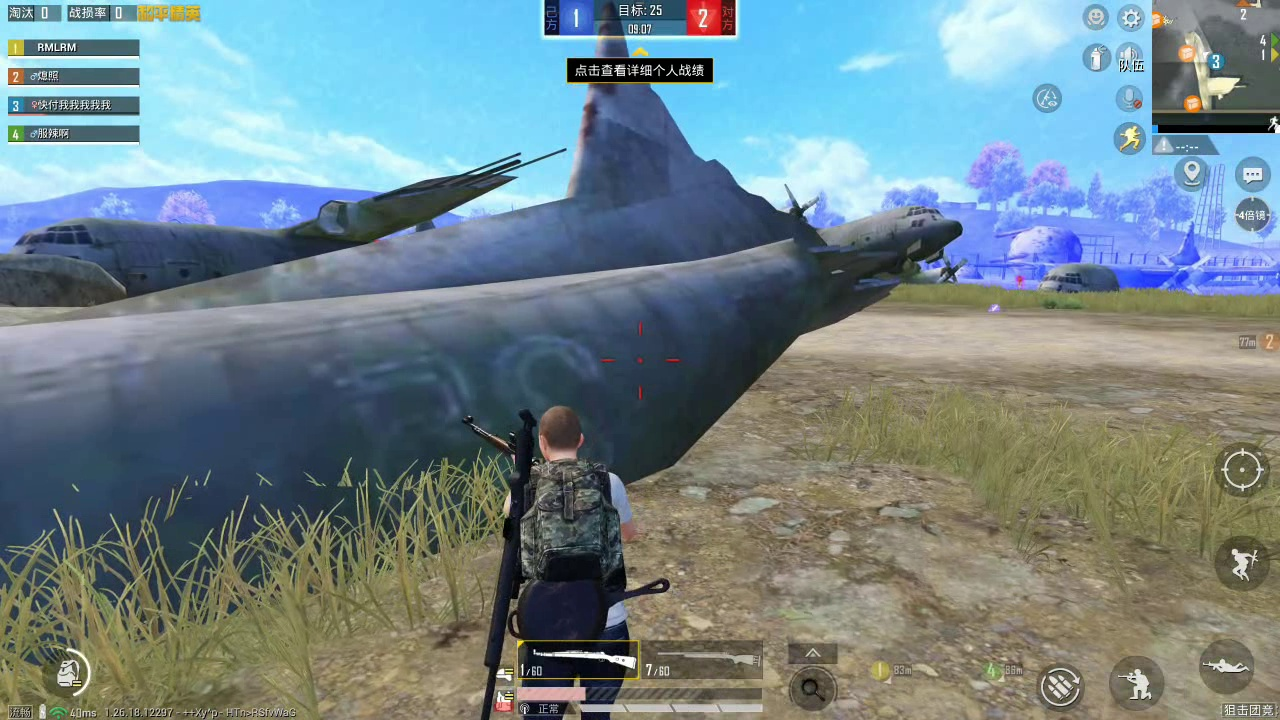enemy: (1015, 274, 1027, 290)
